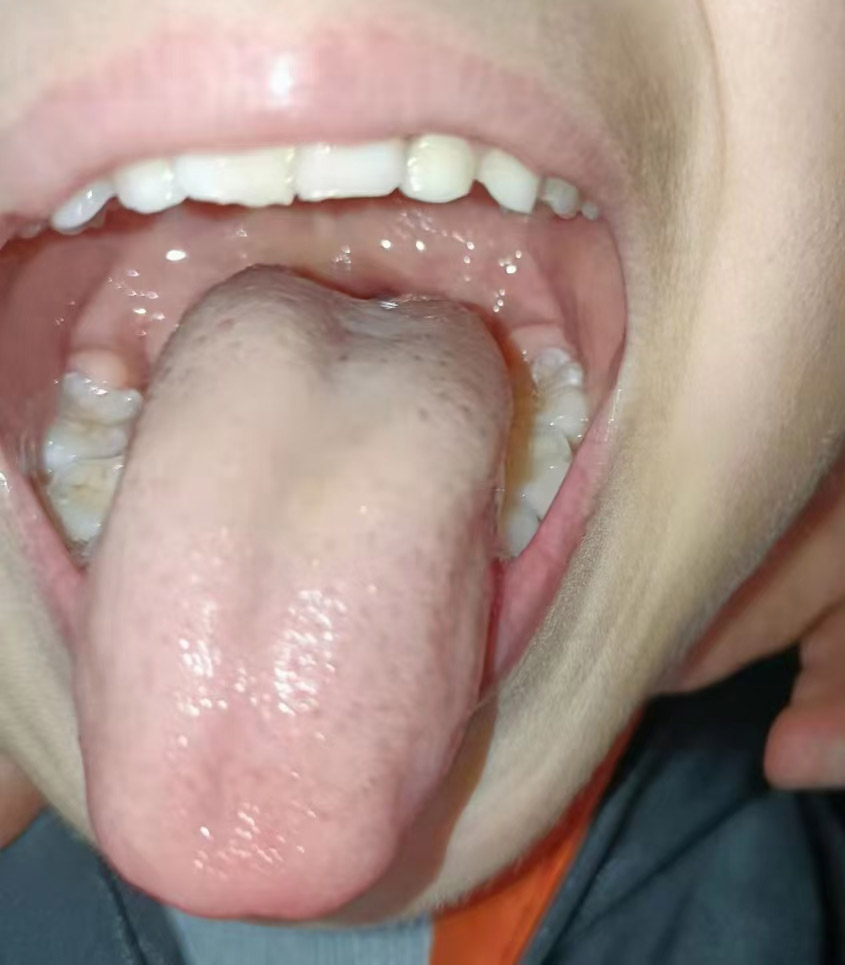baitaishe: (76, 267, 513, 921)
